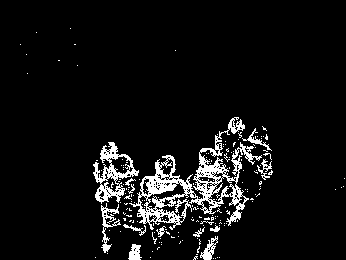person: (185, 148, 224, 259), (139, 155, 187, 245), (110, 155, 145, 260), (94, 142, 121, 254), (222, 111, 247, 216), (247, 121, 272, 214)
